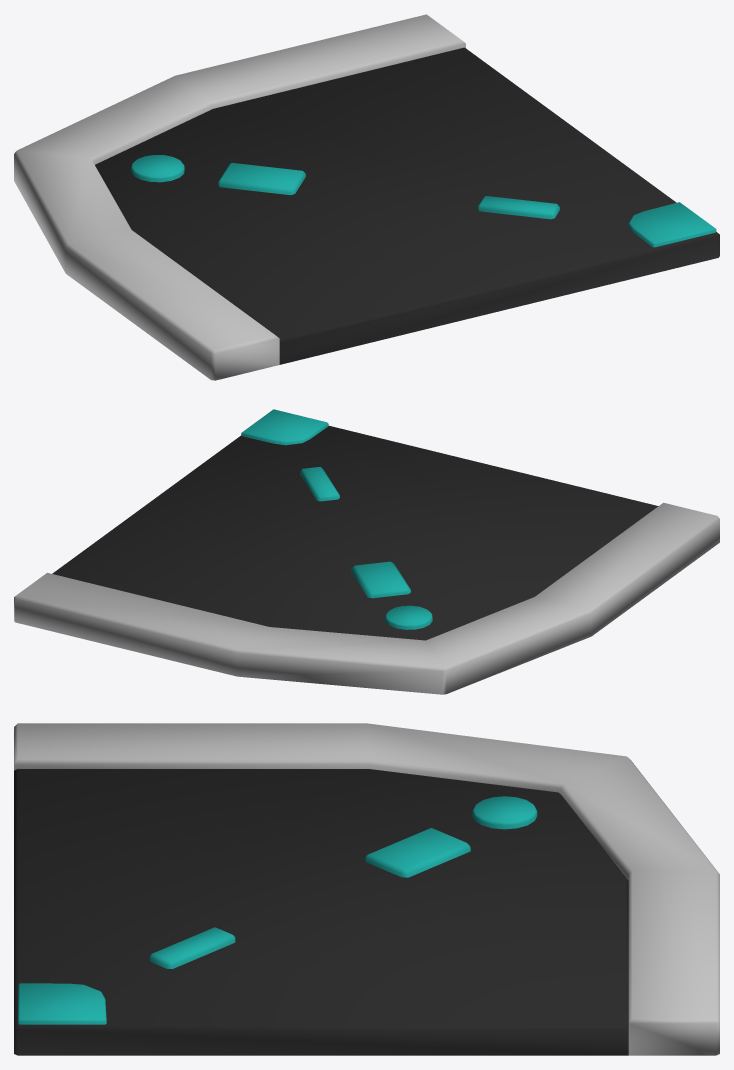
3 renders of one model, top to bottom at view 1: azimuth 30°, elevation 25°; view 2: azimuth 150°, elevation 25°; view 3: azimuth 270°, elevation 25°, orthographic. The views are drawn at different scales.
Visible parts, largest first — view 1: Tile_track4.004; view 2: Tile_track4.004; view 3: Tile_track4.004.
Boxes of the visible parts, left/top/right/bottom form: Tile_track4.004: left=14, top=14, right=719, bottom=380; Tile_track4.004: left=14, top=409, right=719, bottom=694; Tile_track4.004: left=14, top=723, right=719, bottom=1055.
Size of the model in its own units: 2.27 by 0.1283 by 2.27.
